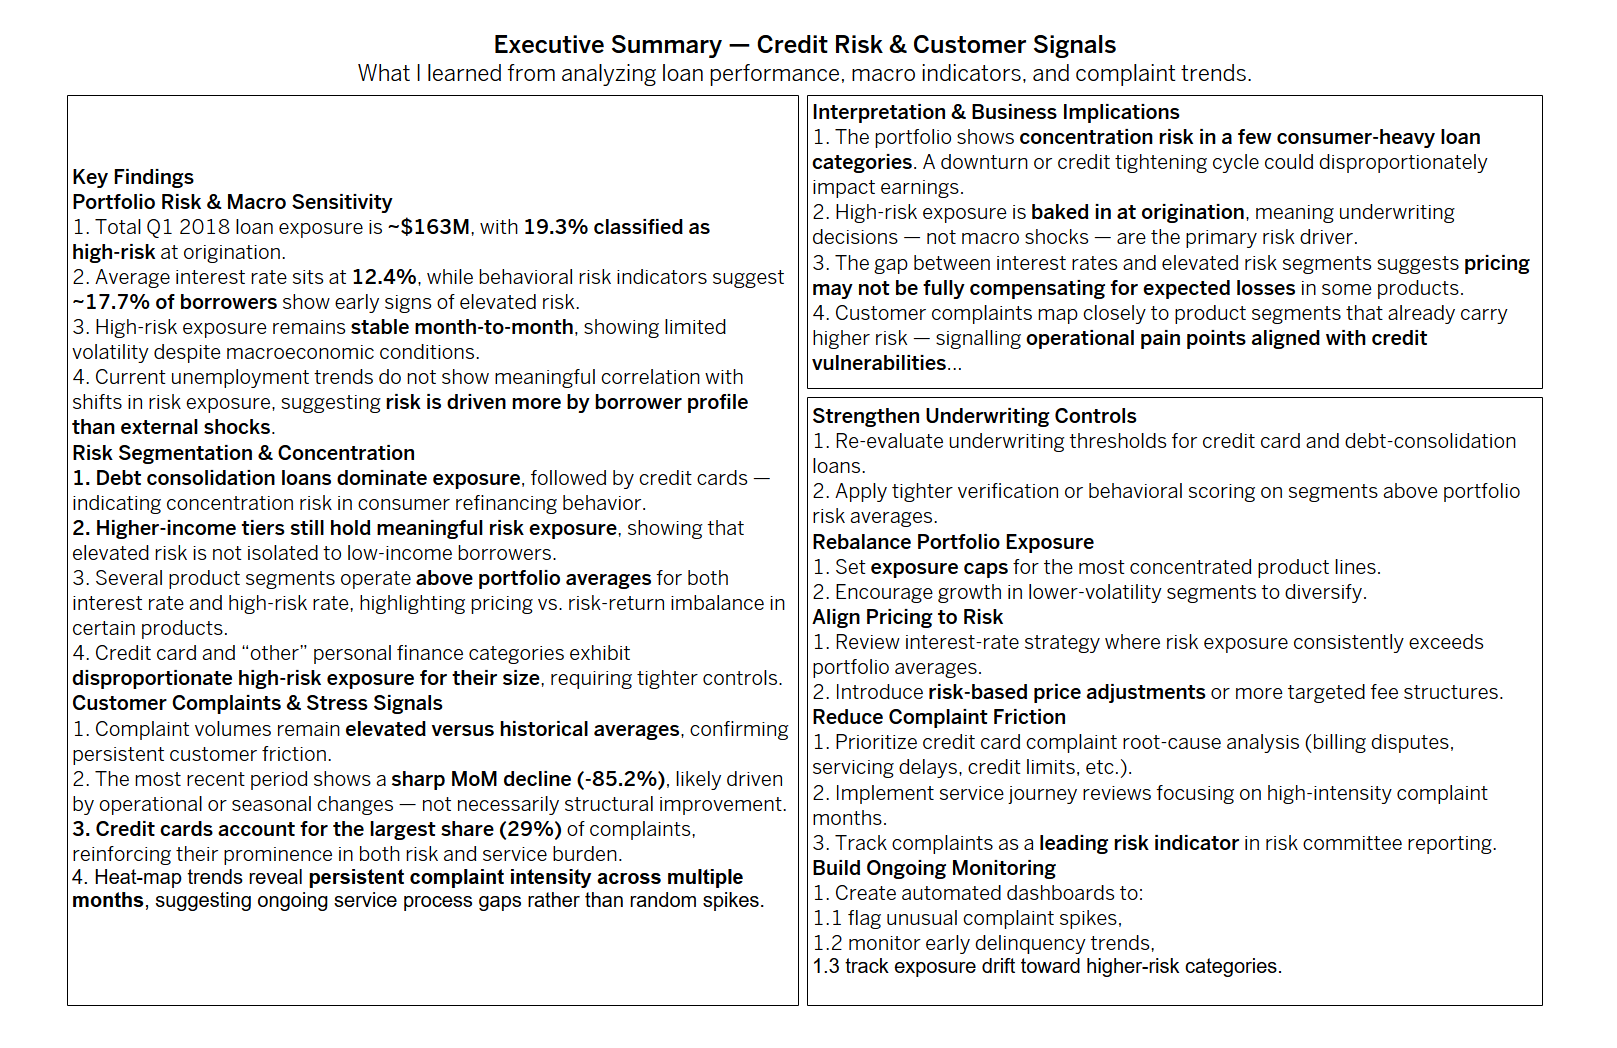

This screenshot's page, from the dashboard's own definition file:
{"tool":"tableau","page":{"name":"Executive Summary - Credit Risk & Customer Signals","canvas":[1500,1000],"ordinal":2},"visuals":[{"type":"text","box":[8,8,1484,65]},{"type":"text","box":[8,73,740,919]},{"type":"text","box":[748,73,744,302]},{"type":"text","box":[748,375,744,617]}]}

Visuals, with their boxes in screenshot pixels (x1, y1, x2, y2), scaled from the page's 1500x1000 canvas onto the 1617x1048 screenshot:
text: Rect(9, 8, 1608, 77)
text: Rect(9, 77, 806, 1040)
text: Rect(806, 77, 1608, 393)
text: Rect(806, 393, 1608, 1040)
